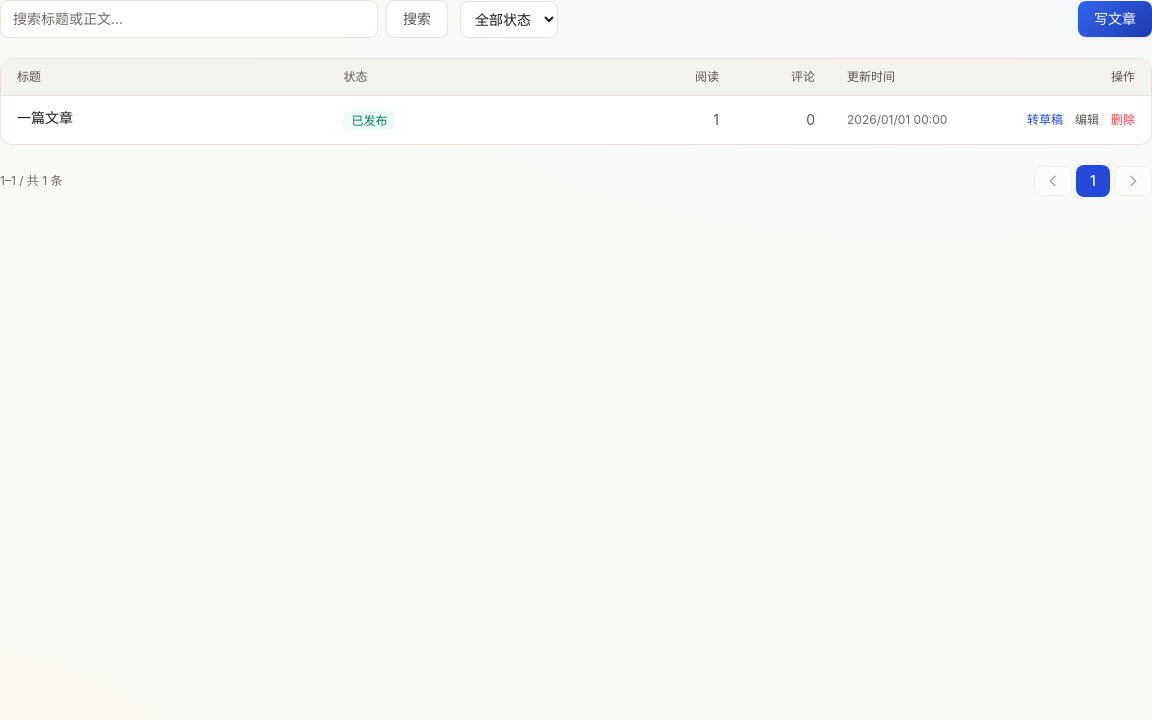
ArticleListView · 删除 › 取消删除：不发请求、列表不变、确认框关掉
This screenshot has width=1152, height=720.
Click the button "删除" at (1123, 120), box [1111,112,1135,128]
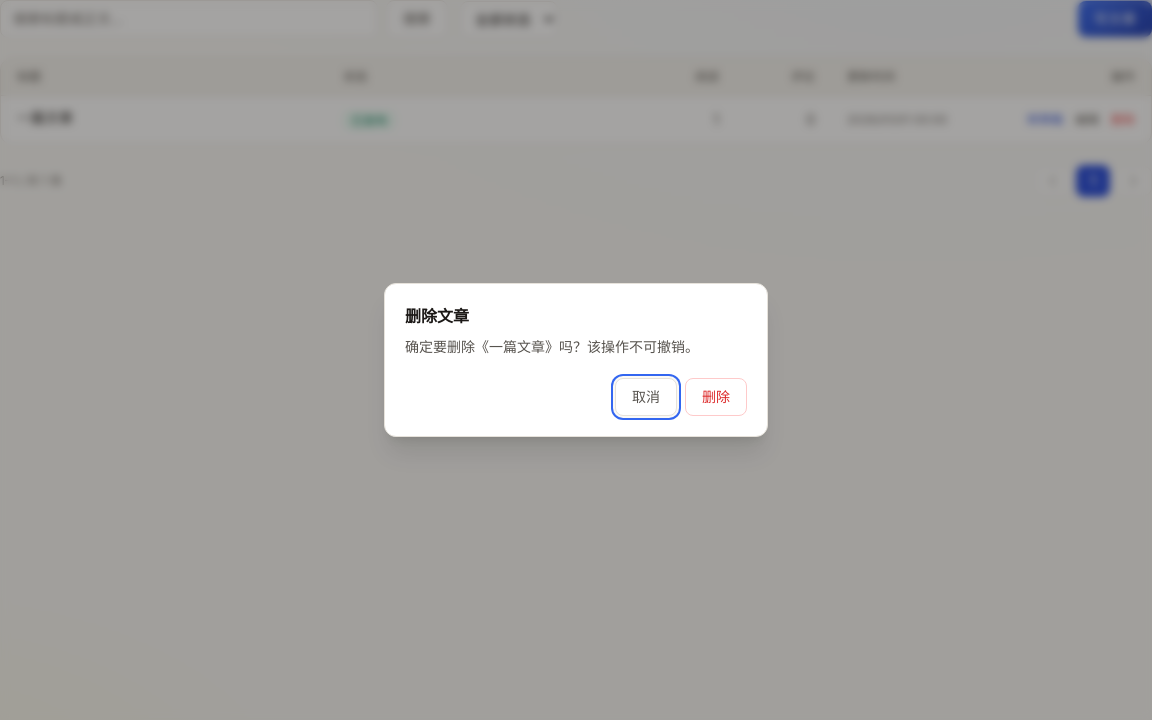
Click the button "取消" at (646, 397), box [615,378,677,416]
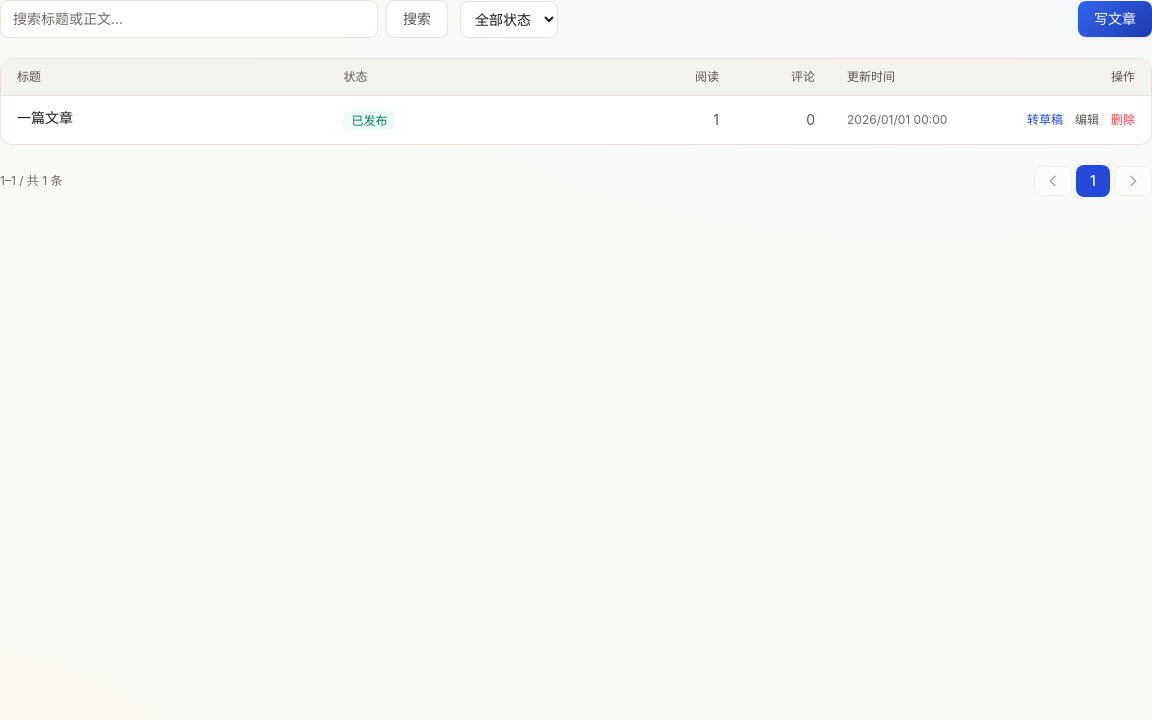
Expected: the dialog is gone
